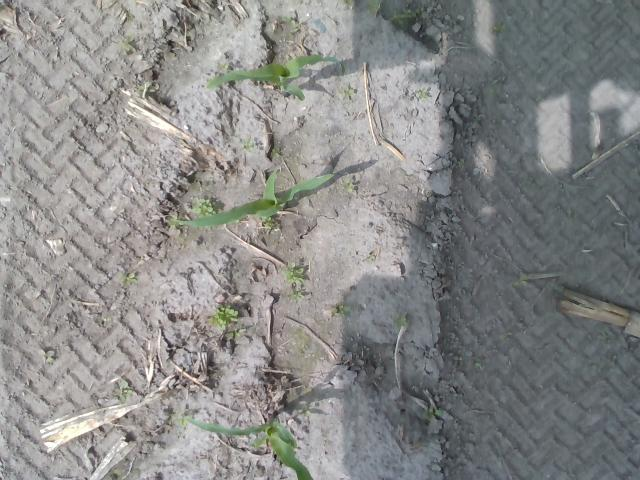Maize: (167, 170, 337, 230), (183, 413, 314, 480), (202, 54, 344, 103)
Weeds: (213, 305, 237, 326), (284, 262, 306, 284), (192, 196, 215, 217), (392, 8, 414, 24), (37, 348, 56, 364), (118, 271, 138, 284), (392, 313, 408, 328), (117, 36, 128, 56), (330, 304, 348, 316), (174, 414, 192, 426), (512, 276, 530, 288), (288, 291, 304, 302), (118, 390, 132, 402), (427, 407, 442, 418), (341, 177, 352, 192), (488, 23, 504, 33), (262, 216, 274, 228), (230, 327, 244, 337), (340, 86, 354, 96), (242, 143, 254, 154), (282, 15, 295, 25), (298, 407, 312, 416), (271, 149, 280, 159), (220, 64, 230, 70)
